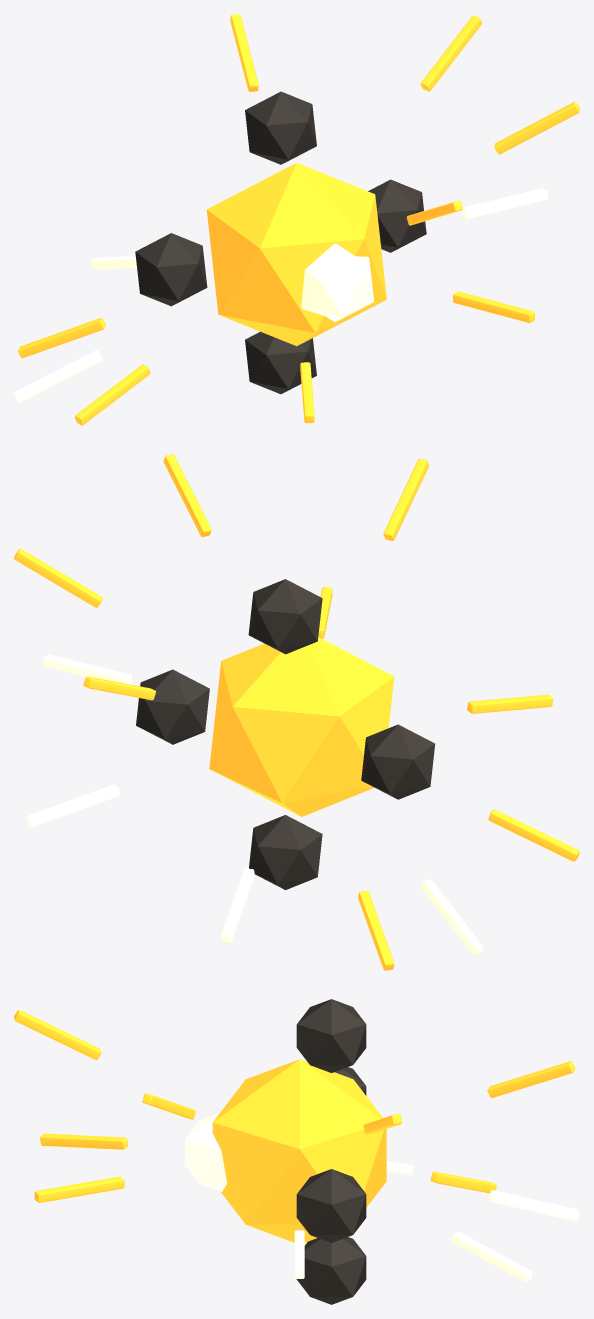
The model's file is VXFX_MISSILE_BURST_v002.fbx.
3 renders of one model, top to bottom at view 1: azimuth 30°, elevation 25°; view 2: azimuth 150°, elevation 25°; view 3: azimuth 270°, elevation 25°, orthographic. The views are drawn at different scales.
Parts seen in each view (by area): view 1: Expanding impact shell, Small warm ignition core, Faceted smoke fragment.002, Faceted smoke fragment.001, Faceted smoke fragment.003, Faceted smoke fragment, Radial impact shard.009, Radial impact shard.005, Radial impact shard.008, Radial impact shard.004, Radial impact shard, Radial impact shard.001 (+5 smaller); view 2: Expanding impact shell, Faceted smoke fragment.002, Faceted smoke fragment.001, Faceted smoke fragment.003, Faceted smoke fragment, Radial impact shard.004, Radial impact shard.008, Radial impact shard.003, Radial impact shard.009, Radial impact shard.005, Radial impact shard.002, Radial impact shard (+4 smaller); view 3: Expanding impact shell, Faceted smoke fragment, Faceted smoke fragment.001, Faceted smoke fragment.003, Small warm ignition core, Radial impact shard.002, Radial impact shard.010, Radial impact shard.006, Radial impact shard.003, Radial impact shard.007, Radial impact shard.011, Radial impact shard.001 (+3 smaller).
Boxes of the visible parts, box(x1,y1,x2,y2) form: Expanding impact shell: box(206, 163, 386, 346); Small warm ignition core: box(301, 243, 374, 321); Faceted smoke fragment.002: box(135, 233, 207, 306); Faceted smoke fragment.001: box(245, 91, 316, 164); Faceted smoke fragment.003: box(245, 331, 316, 394); Faceted smoke fragment: box(368, 179, 426, 252); Radial impact shard.009: box(14, 350, 102, 402); Radial impact shard.005: box(494, 101, 579, 154); Radial impact shard.008: box(420, 15, 482, 91); Radial impact shard.004: box(75, 364, 150, 425); Radial impact shard: box(462, 188, 548, 219); Radial impact shard.001: box(18, 318, 105, 358); Expanding impact shell: box(209, 637, 394, 816); Faceted smoke fragment.002: box(361, 724, 435, 799); Faceted smoke fragment.001: box(248, 579, 322, 654); Faceted smoke fragment.003: box(249, 815, 322, 890); Faceted smoke fragment: box(136, 669, 209, 744); Radial impact shard.004: box(488, 809, 579, 861); Radial impact shard.008: box(14, 548, 102, 607); Radial impact shard.003: box(27, 784, 119, 827); Radial impact shard.009: box(421, 879, 483, 955); Radial impact shard.005: box(163, 454, 211, 536); Radial impact shard.002: box(383, 458, 428, 540); Radial impact shard: box(43, 654, 131, 684); Expanding impact shell: box(212, 1059, 386, 1242); Faceted smoke fragment: box(296, 1169, 366, 1242); Faceted smoke fragment.001: box(296, 999, 366, 1072); Faceted smoke fragment.003: box(296, 1237, 366, 1304); Small warm ignition core: box(185, 1112, 226, 1191); Radial impact shard.002: box(14, 1010, 101, 1059); Radial impact shard.010: box(34, 1176, 124, 1202); Radial impact shard.006: box(488, 1190, 579, 1221); Radial impact shard.003: box(452, 1231, 532, 1282); Radial impact shard.007: box(40, 1133, 128, 1149); Radial impact shard.011: box(487, 1061, 575, 1097); Radial impact shard.001: box(430, 1171, 496, 1193).
Bounding box in the file's own units: 45.1 × 26.82 × 44.27.
